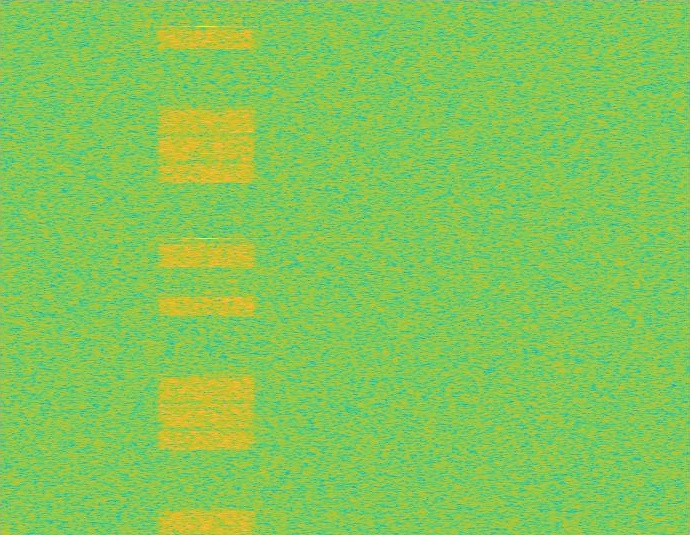LTE: (155, 0, 259, 534)
Radar: (199, 0, 213, 534)
